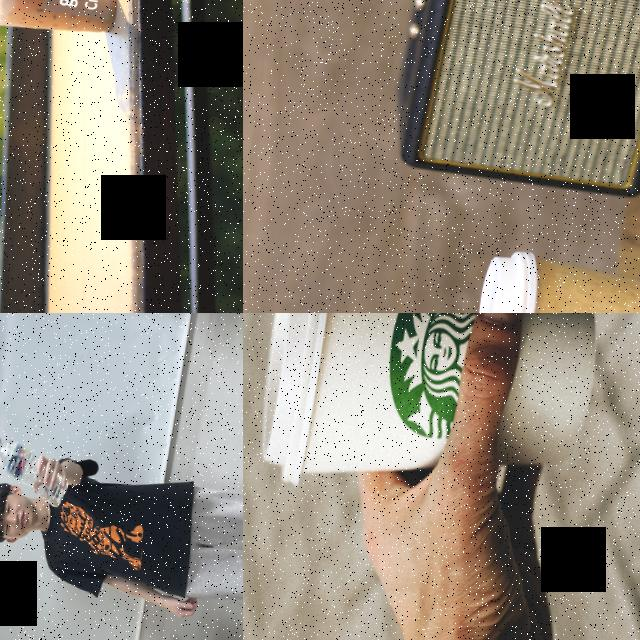bottle: (0, 436, 74, 509)
cup: (249, 313, 615, 525), (473, 246, 640, 313), (0, 0, 120, 48)
